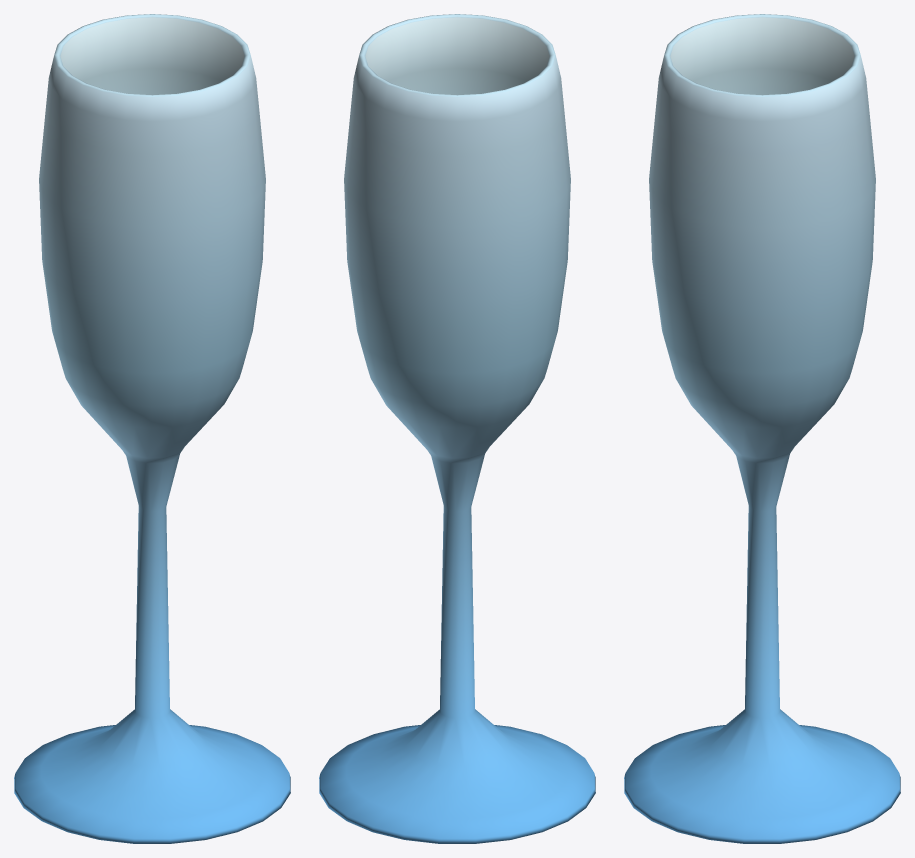
The model's file is glass_008.fbx.
3 views of the same model, side by side, from view 1: azimuth 30°, elevation 25°; view 2: azimuth 150°, elevation 25°; view 3: azimuth 270°, elevation 25° (orthographic).
Visible parts, largest first — view 1: glass_008; view 2: glass_008; view 3: glass_008.
Part boxes in pixels (x1=…): glass_008: x1=14, y1=14, x2=290, y2=843; glass_008: x1=319, y1=14, x2=595, y2=843; glass_008: x1=624, y1=14, x2=900, y2=843.
Bounding box in the file's own units: 7.66 × 7.66 × 22.32.
